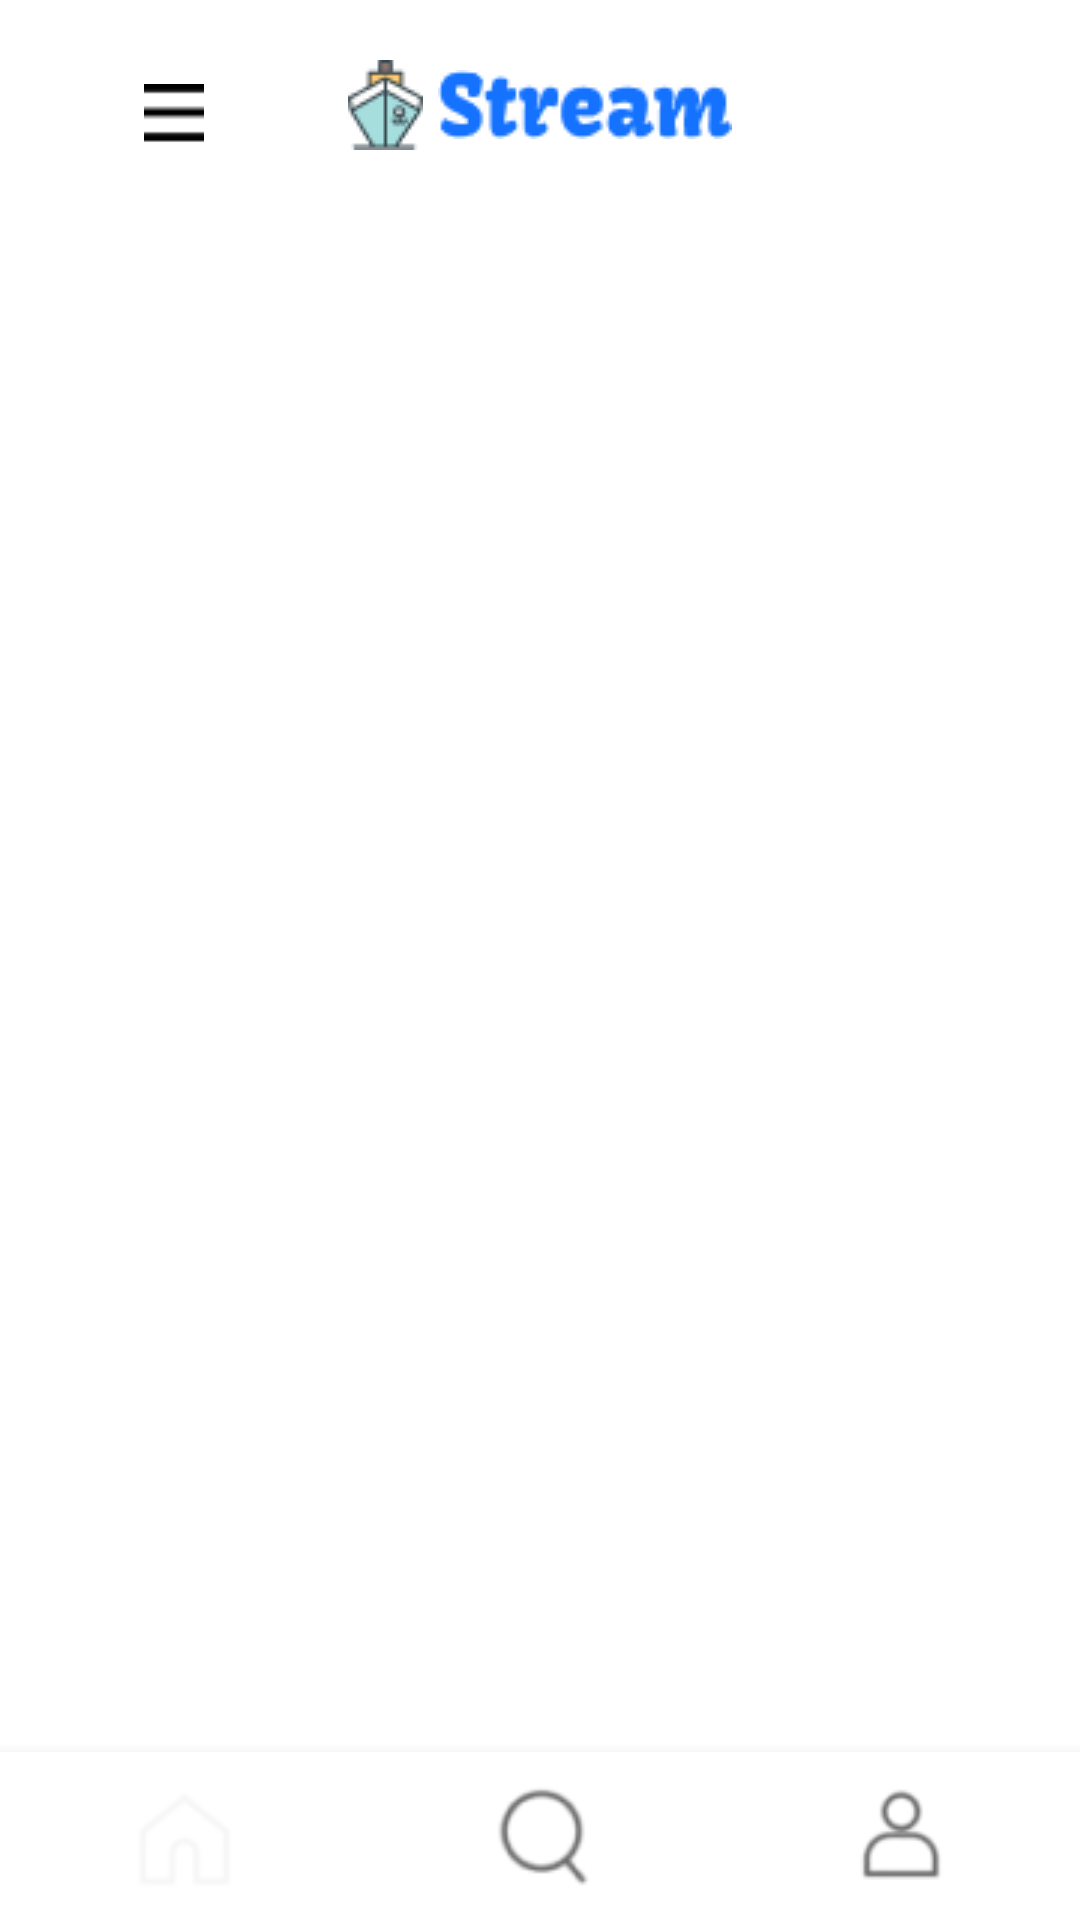

Icons on this 1080w x 1920h Android screen, each with the point to tap as (x,y):
iconcruiseship: (385,105)
iconmenu: (174,113)
